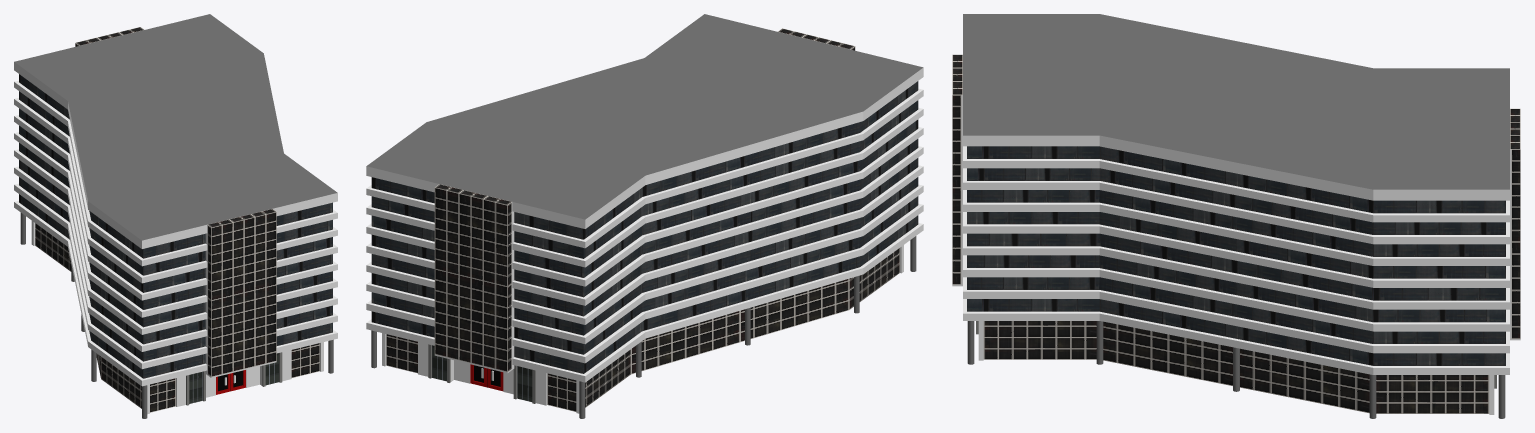
The picture shows the model from 3 angles, left to right: view 1: azimuth 30°, elevation 25°; view 2: azimuth 150°, elevation 25°; view 3: azimuth 270°, elevation 25°; orthographic projection. The views are drawn at different scales.
Parts seen in each view (by area): view 1: MB-05; view 2: MB-05; view 3: MB-05.
Part boxes in pixels (left/top/right/bottom): MB-05: left=14, top=14, right=337, bottom=418; MB-05: left=366, top=14, right=923, bottom=418; MB-05: left=952, top=14, right=1520, bottom=418.
Size of what is drawn, in the model's own units: 28.78 by 17.57 by 39.34.
